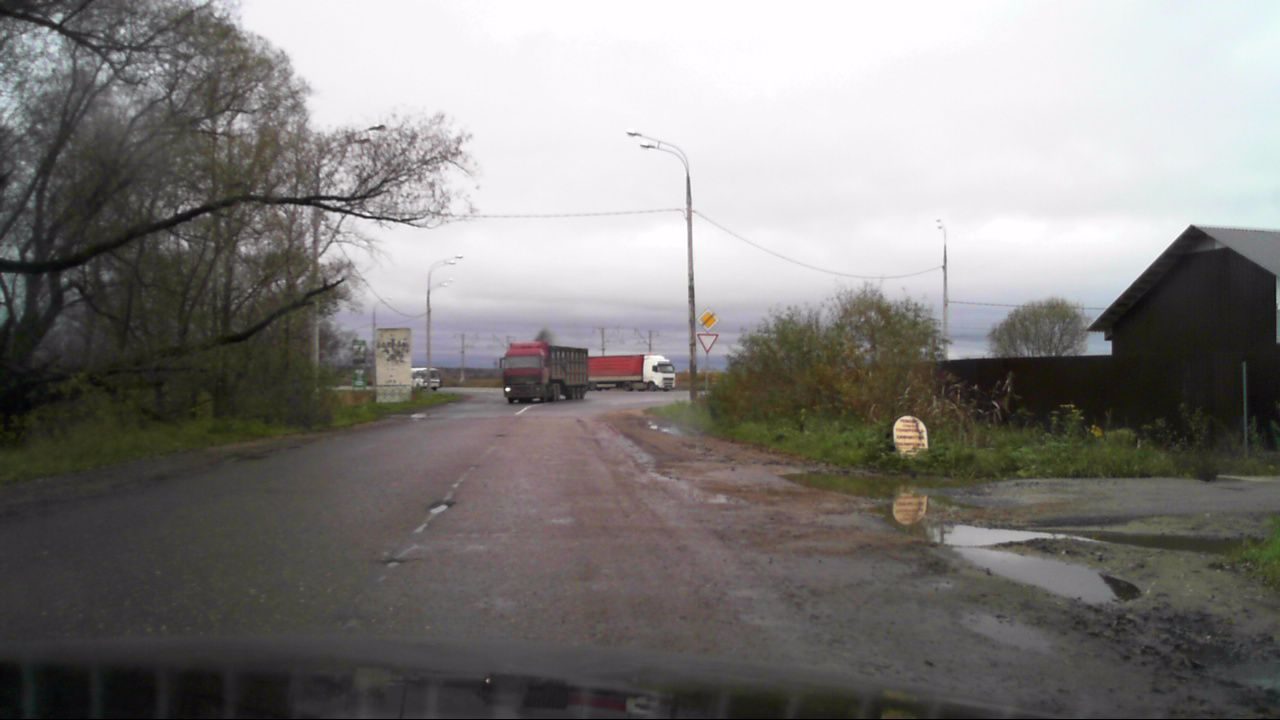main road: (697, 308, 718, 332)
